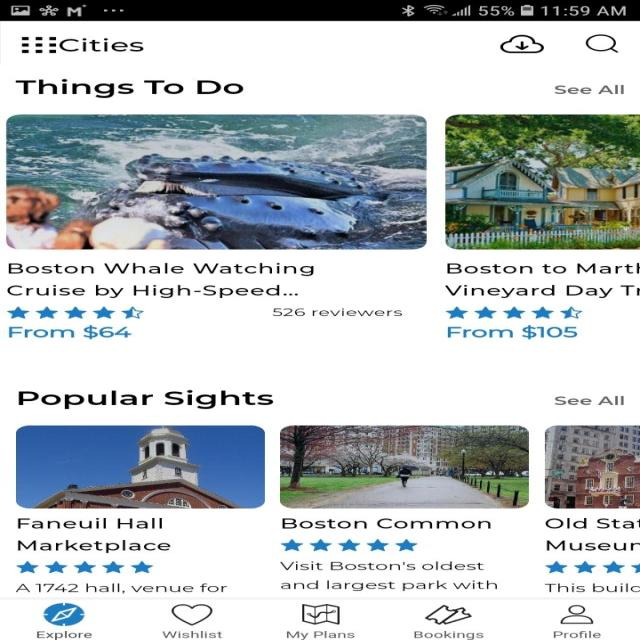Icon: (15, 560, 153, 573), (6, 306, 144, 319), (444, 306, 582, 318), (280, 539, 416, 551), (544, 560, 639, 573), (42, 602, 84, 626), (424, 604, 471, 624), (170, 603, 212, 625), (498, 34, 544, 54), (302, 604, 339, 624), (559, 604, 593, 624), (584, 34, 618, 53), (21, 36, 56, 53)
Image: (5, 114, 426, 250), (444, 114, 640, 250), (279, 425, 529, 508), (16, 426, 265, 508), (544, 425, 639, 508)
Text: (7, 263, 314, 298), (444, 263, 640, 298), (280, 561, 497, 591), (17, 517, 171, 553), (18, 389, 274, 409), (16, 79, 244, 98), (544, 517, 639, 550), (15, 582, 228, 593), (282, 518, 490, 528), (446, 325, 576, 339), (8, 325, 132, 339), (59, 38, 144, 52), (272, 308, 401, 316), (543, 582, 639, 592), (554, 395, 624, 405), (554, 84, 624, 94), (413, 630, 483, 639), (286, 630, 355, 639), (36, 630, 92, 639), (161, 630, 222, 638), (552, 630, 600, 638)
